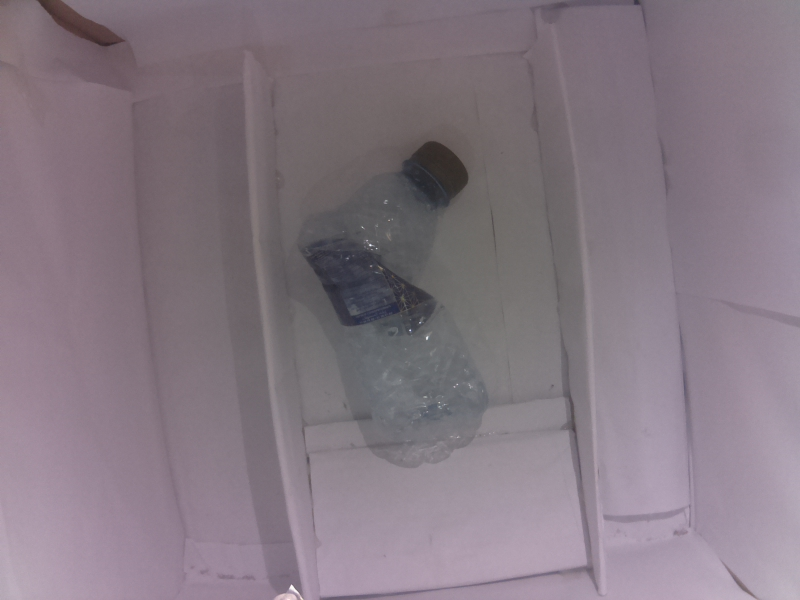botolplastik: (299, 141, 488, 465)
